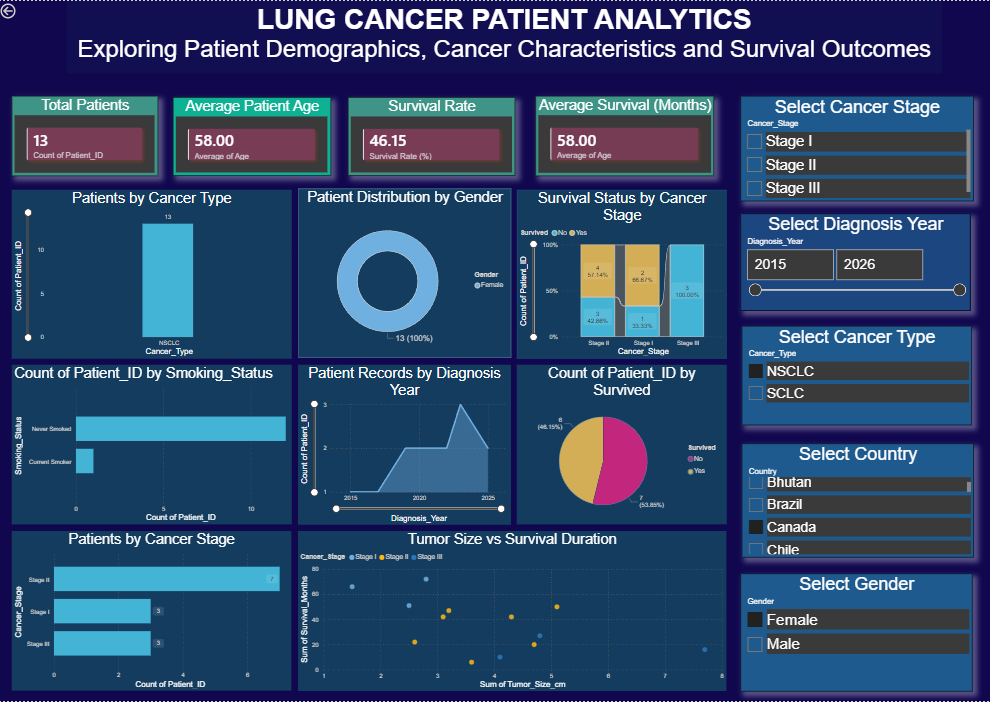

Layout of this report page (visuals, bound fields, positions):
{"tool":"powerbi","page":{"name":"Page 1","canvas":[2000,1400],"ordinal":0},"visuals":[{"type":"cardVisual","title":"Total Patients","fields":{"Data":["Count(lung_cancer_dataset.Patient_ID)"]},"box":[27.1,190,292.9,160],"z":0},{"type":"actionButton","box":[0,0,100,40],"z":1},{"type":"textbox","box":[137.5,0,1750,145],"z":3},{"type":"cardVisual","title":"Average Survival (Months)","fields":{"Data":["Avg(lung_cancer_dataset.Age)"]},"box":[1075.7,190,357.1,160],"z":4},{"type":"cardVisual","title":"Survival Rate","fields":{"Data":["lung_cancer_dataset.Survival Rate (%)"]},"box":[700,192.9,334.3,157.1],"z":5},{"type":"cardVisual","title":"Average Patient Age","fields":{"Data":["Avg(lung_cancer_dataset.Age)"]},"box":[350,192.9,315.7,157.1],"z":6},{"type":"clusteredColumnChart","title":"Patients by Cancer Type","fields":{"Category":["lung_cancer_dataset.Cancer_Type"],"Y":["Count(lung_cancer_dataset.Patient_ID)"]},"box":[27.5,376.2,560,337.5],"z":7},{"type":"clusteredBarChart","title":"Patients by Cancer Stage","fields":{"Category":["lung_cancer_dataset.Cancer_Stage"],"Y":["Count(lung_cancer_dataset.Patient_ID)"]},"box":[27.8,1060.2,559.3,319.4],"z":8},{"type":"donutChart","title":"Patient Distribution by Gender","fields":{"Category":["lung_cancer_dataset.Gender"],"Y":["Count(lung_cancer_dataset.Patient_ID)"]},"box":[598.8,375,426.2,338.8],"z":9},{"type":"clusteredBarChart","fields":{"Category":["lung_cancer_dataset.Smoking_Status"],"Y":["Count(lung_cancer_dataset.Patient_ID)"]},"box":[26.9,726.9,560.2,319.4],"z":10},{"type":"hundredPercentStackedColumnChart","title":"Survival Status by Cancer Stage","fields":{"Category":["lung_cancer_dataset.Cancer_Stage"],"Y":["CountNonNull(lung_cancer_dataset.Patient_ID)"],"Series":["lung_cancer_dataset.Survived"]},"box":[1036.2,376.2,420,337.5],"z":11},{"type":"lineChart","title":"Patient Records by Diagnosis Year","fields":{"Category":["lung_cancer_dataset.Diagnosis_Year"],"Y":["CountNonNull(lung_cancer_dataset.Patient_ID)"]},"box":[600,726.9,425.9,319.4],"z":12},{"type":"slicer","title":"Select Country","fields":{"Values":["lung_cancer_dataset.Country"]},"box":[1488,886,464,228],"z":13},{"type":"slicer","title":"Select Gender","fields":{"Values":["lung_cancer_dataset.Gender"]},"box":[1483.8,1143.8,463.8,236.2],"z":14},{"type":"slicer","title":"Select Cancer Type","fields":{"Values":["lung_cancer_dataset.Cancer_Type"]},"box":[1488,650,460,198],"z":15},{"type":"slicer","title":"Select Cancer Stage","fields":{"Values":["lung_cancer_dataset.Cancer_Stage"]},"box":[1484,190,466,210],"z":16},{"type":"slicer","title":"Select Diagnosis Year","fields":{"Values":["lung_cancer_dataset.Diagnosis_Year"]},"box":[1486,426,460,194],"z":17},{"type":"pieChart","fields":{"Category":["lung_cancer_dataset.Survived"],"Y":["CountNonNull(lung_cancer_dataset.Patient_ID)"]},"box":[1037,726.9,420.4,319.4],"z":18},{"type":"scatterChart","title":"Tumor Size vs Survival Duration","fields":{"X":["Sum(lung_cancer_dataset.Tumor_Size_cm)"],"Y":["Sum(lung_cancer_dataset.Survival_Months)"],"Series":["lung_cancer_dataset.Cancer_Stage"],"Category":["lung_cancer_dataset.Patient_ID"]},"box":[600,1060,857,320],"z":19}]}

Visuals, with their boxes in screenshot pixels (x1, y1, x2, y2), scaled from the page's 2000x1400 canvas onto the 990x702 screenshot:
"Total Patients" cardVisual: crop(13, 95, 158, 176)
actionButton: crop(0, 0, 50, 20)
textbox: crop(68, 0, 934, 73)
"Average Survival (Months)" cardVisual: crop(532, 95, 709, 176)
"Survival Rate" cardVisual: crop(346, 97, 512, 176)
"Average Patient Age" cardVisual: crop(173, 97, 330, 176)
"Patients by Cancer Type" clusteredColumnChart: crop(14, 189, 291, 358)
"Patients by Cancer Stage" clusteredBarChart: crop(14, 532, 291, 692)
"Patient Distribution by Gender" donutChart: crop(296, 188, 507, 358)
clusteredBarChart - lung_cancer_dataset.Smoking_Status x Count(lung_cancer_dataset.Patient_ID): crop(13, 364, 291, 525)
"Survival Status by Cancer Stage" hundredPercentStackedColumnChart: crop(513, 189, 721, 358)
"Patient Records by Diagnosis Year" lineChart: crop(297, 364, 508, 525)
"Select Country" slicer: crop(737, 444, 966, 559)
"Select Gender" slicer: crop(734, 574, 964, 692)
"Select Cancer Type" slicer: crop(737, 326, 964, 425)
"Select Cancer Stage" slicer: crop(735, 95, 965, 201)
"Select Diagnosis Year" slicer: crop(736, 214, 963, 311)
pieChart - lung_cancer_dataset.Survived x CountNonNull(lung_cancer_dataset.Patient_ID): crop(513, 364, 721, 525)
"Tumor Size vs Survival Duration" scatterChart: crop(297, 532, 721, 692)
